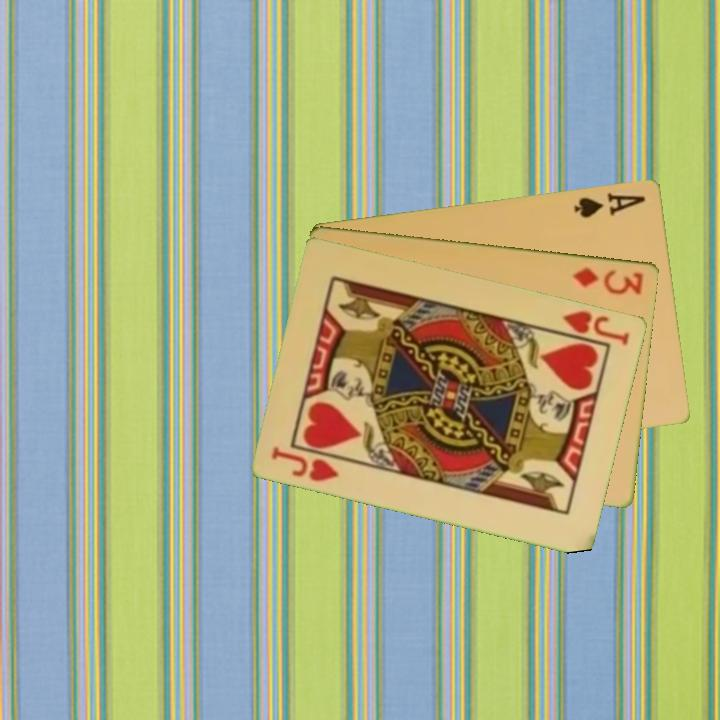3d: (569, 263, 646, 297)
As: (571, 188, 649, 220)
Jh: (549, 306, 633, 348), (268, 442, 343, 484)
